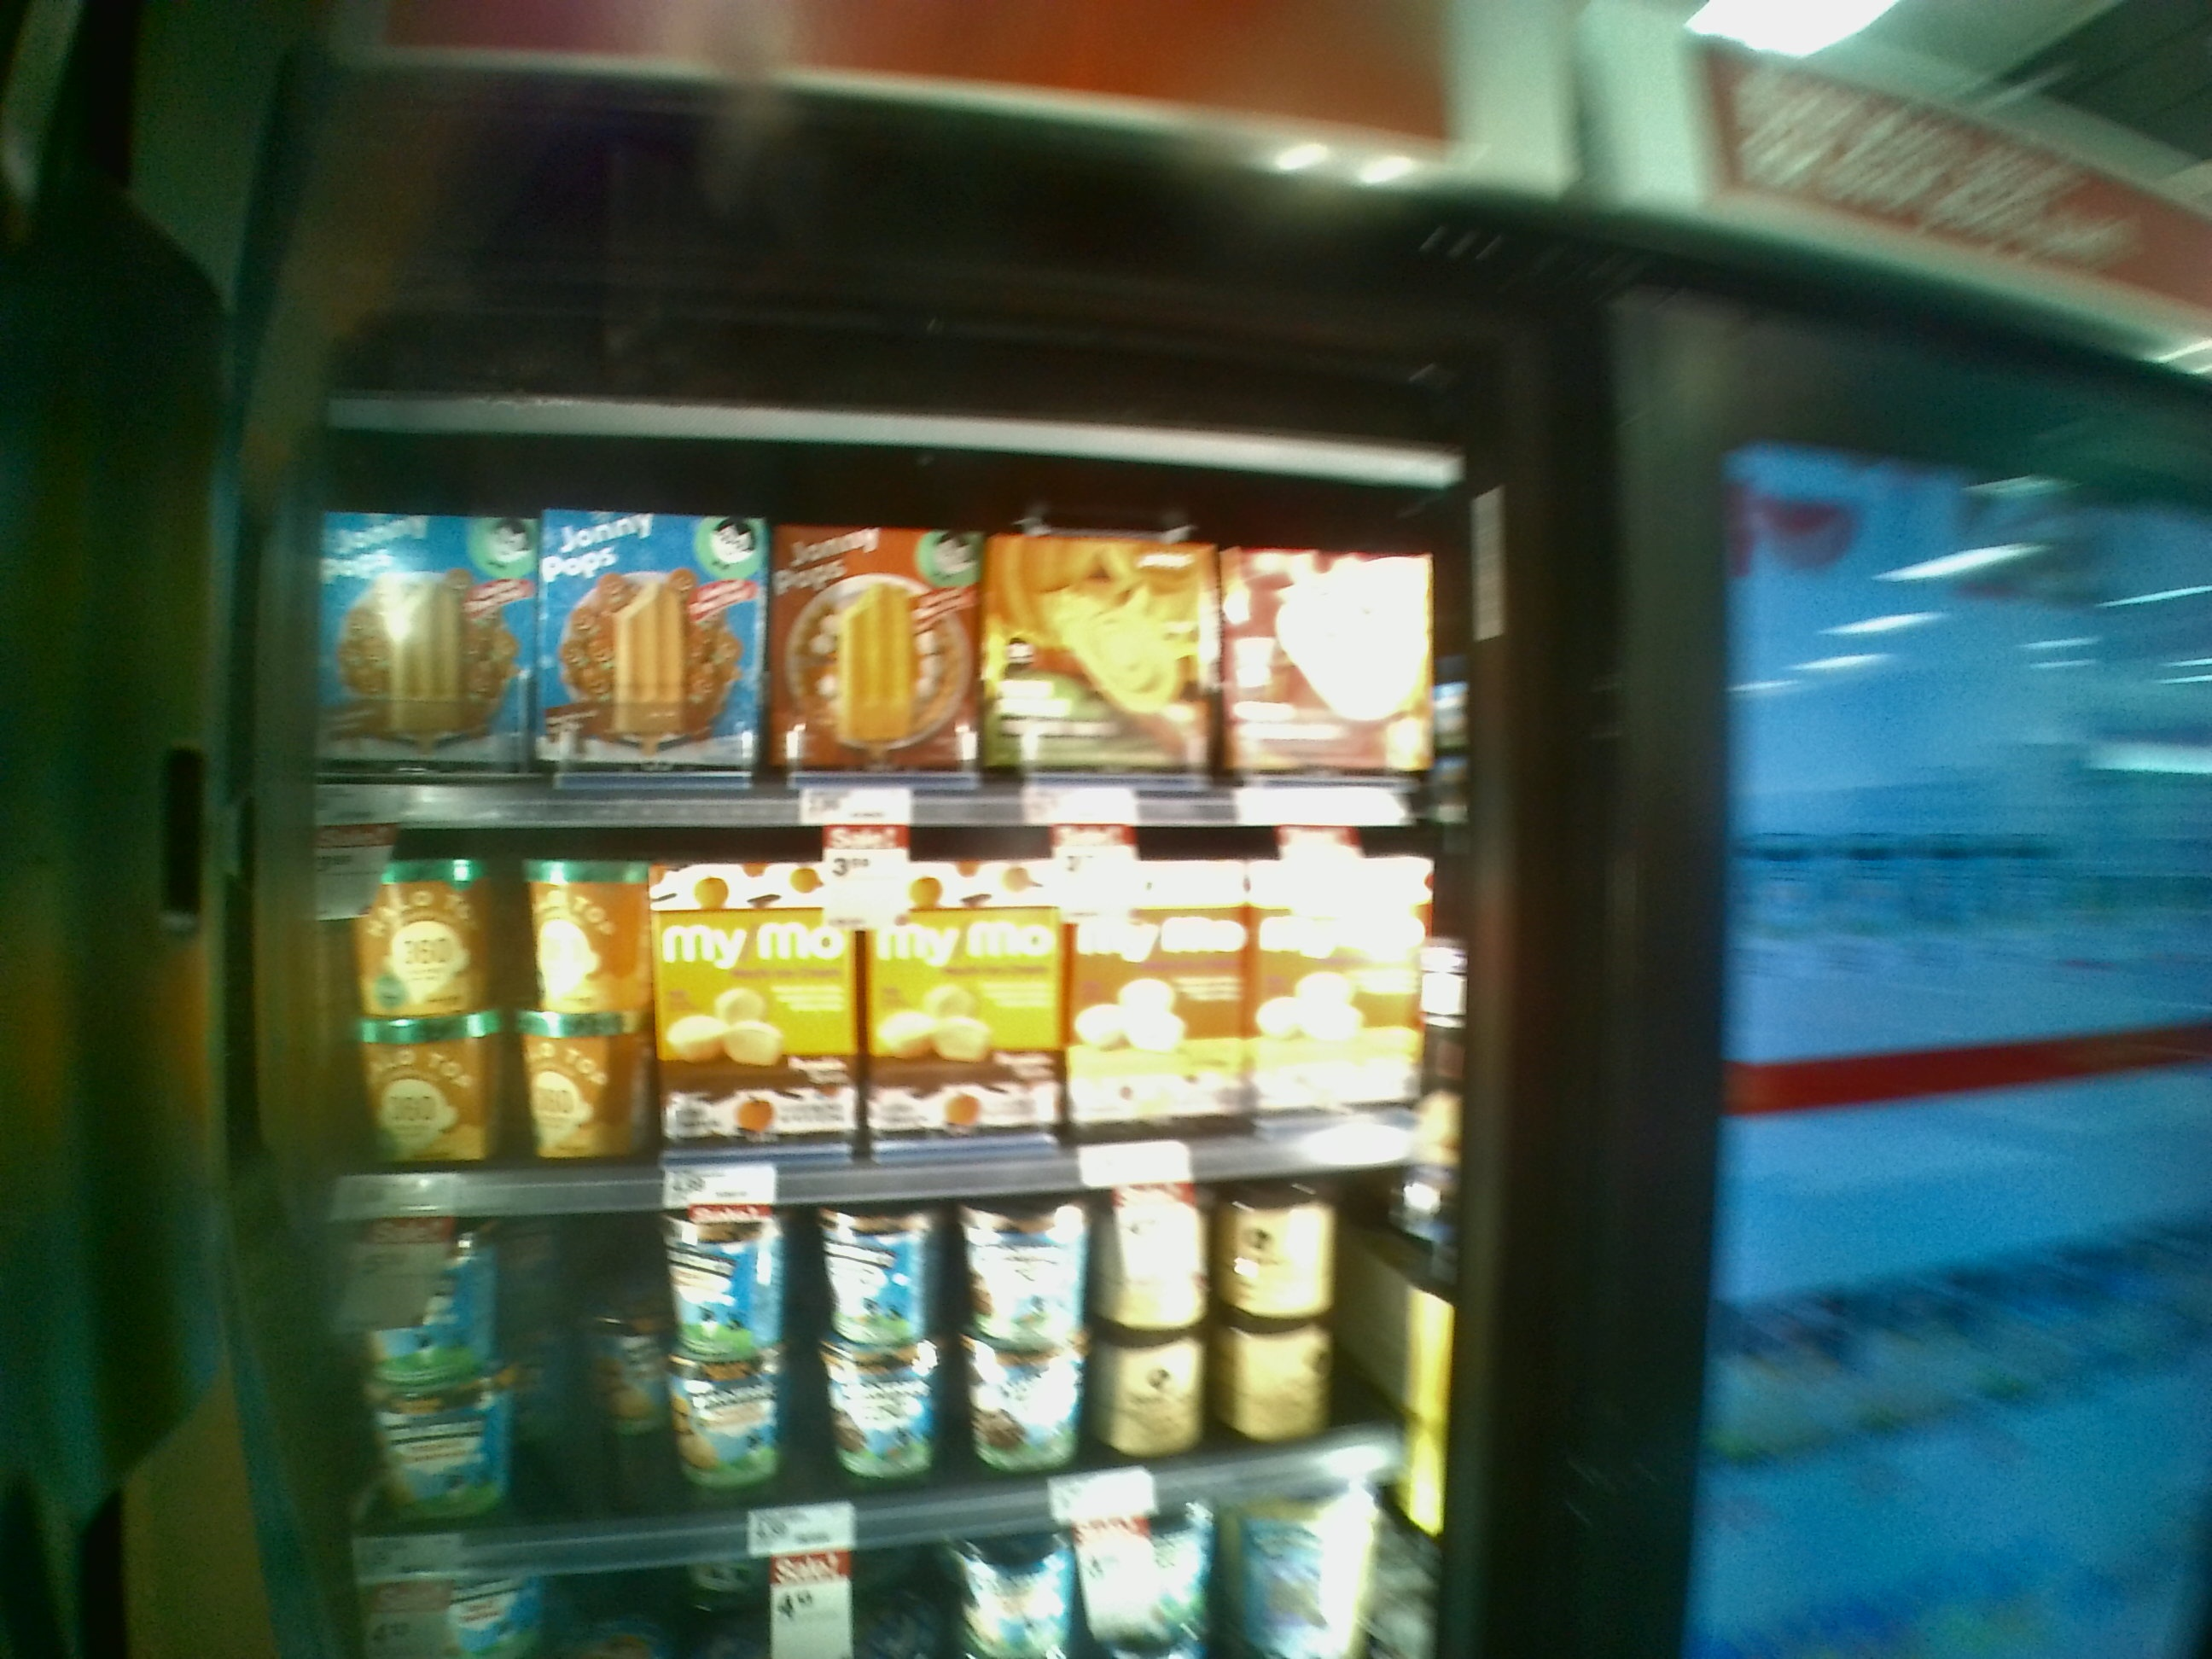shelf: (273, 1192, 1522, 1581), (289, 444, 1474, 817), (291, 816, 1468, 1187)
